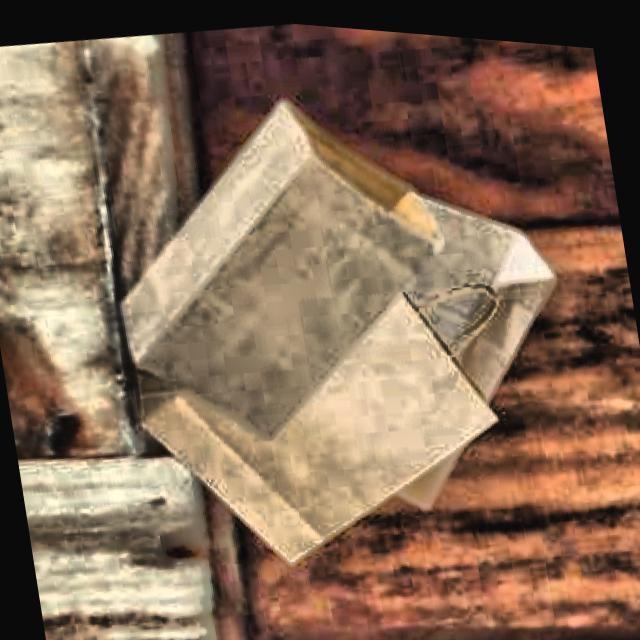Paper-bag: (112, 194, 542, 587), (90, 59, 464, 447), (274, 129, 600, 552)
